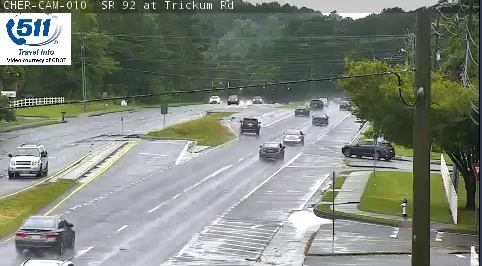car: (16, 216, 74, 250), (259, 142, 284, 159), (282, 129, 303, 145), (240, 118, 258, 133), (294, 105, 310, 117), (312, 114, 328, 125)
